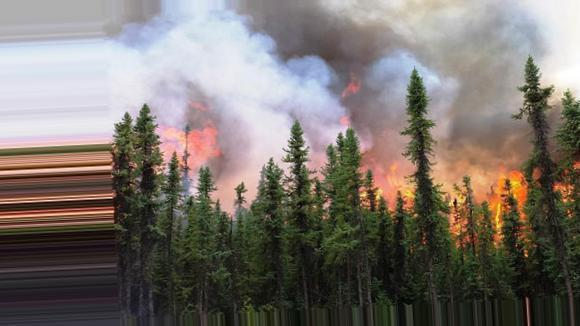fire: (443, 163, 530, 247), (357, 156, 421, 215), (153, 129, 219, 181)
